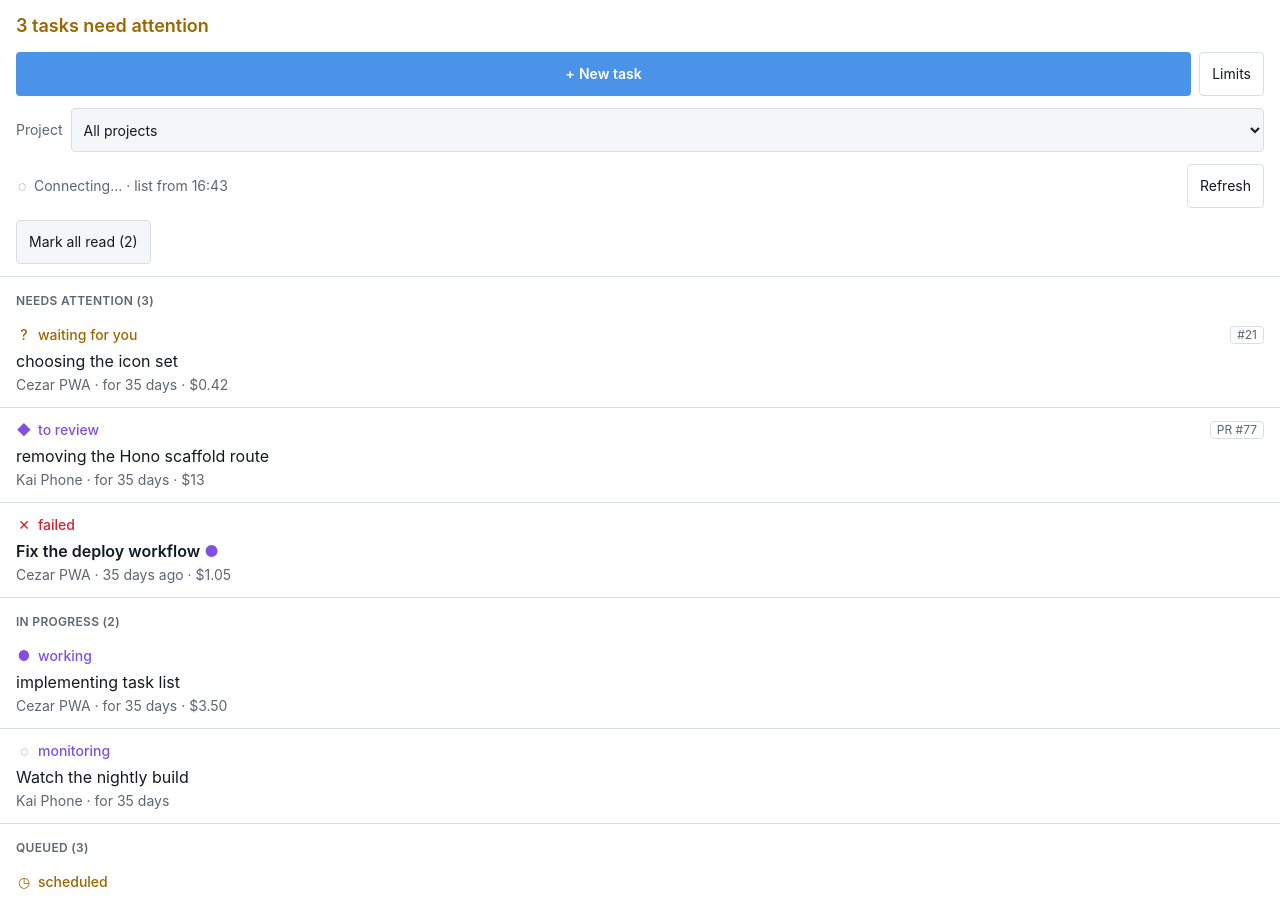
mark all read (#67) › shows the sweep in flight, then clears every marker on screen
The image size is (1280, 899).
Click the button "Mark all read (2)": click(83, 242) [16, 220, 151, 264]
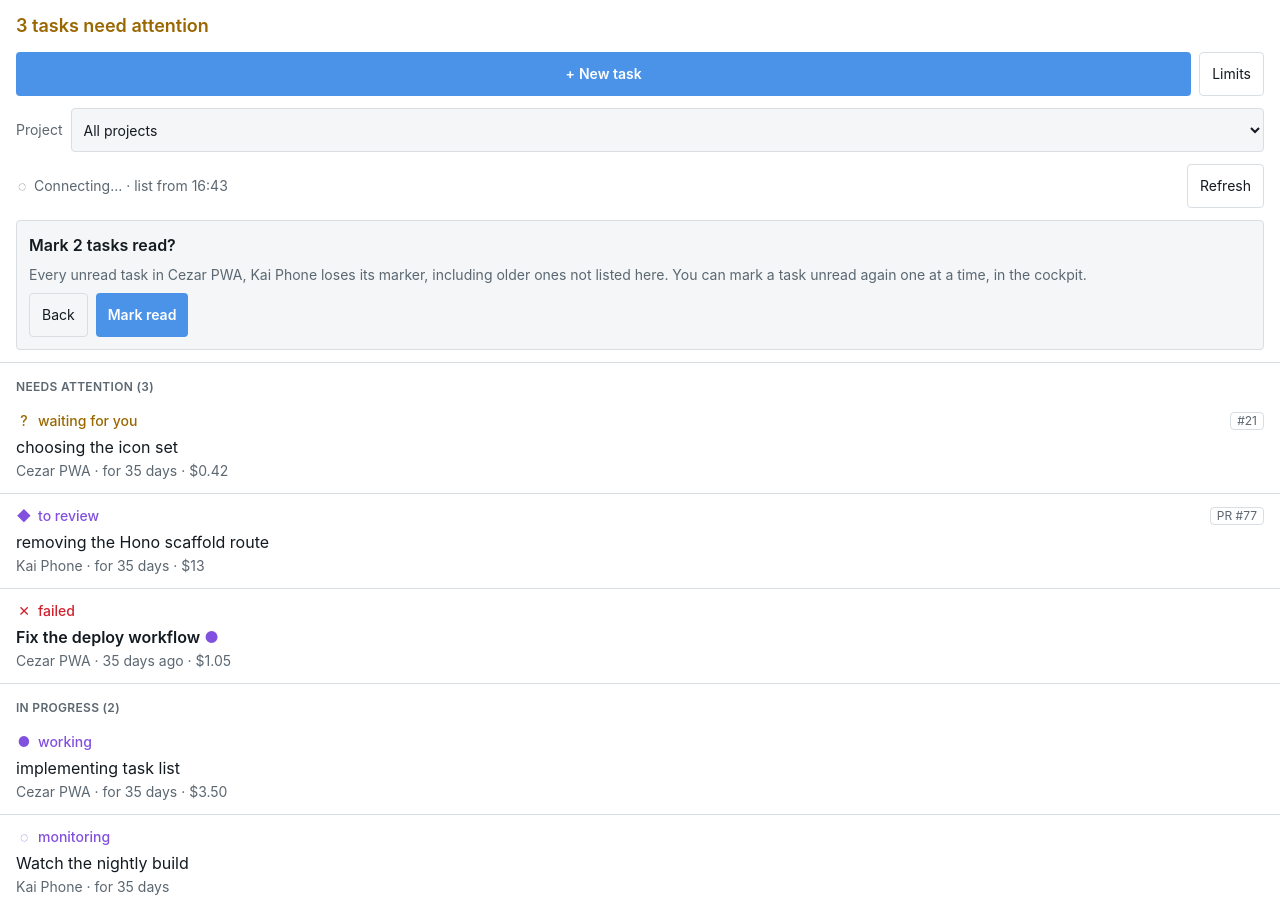
Click the button "Mark read": click(142, 315) [96, 293, 188, 337]
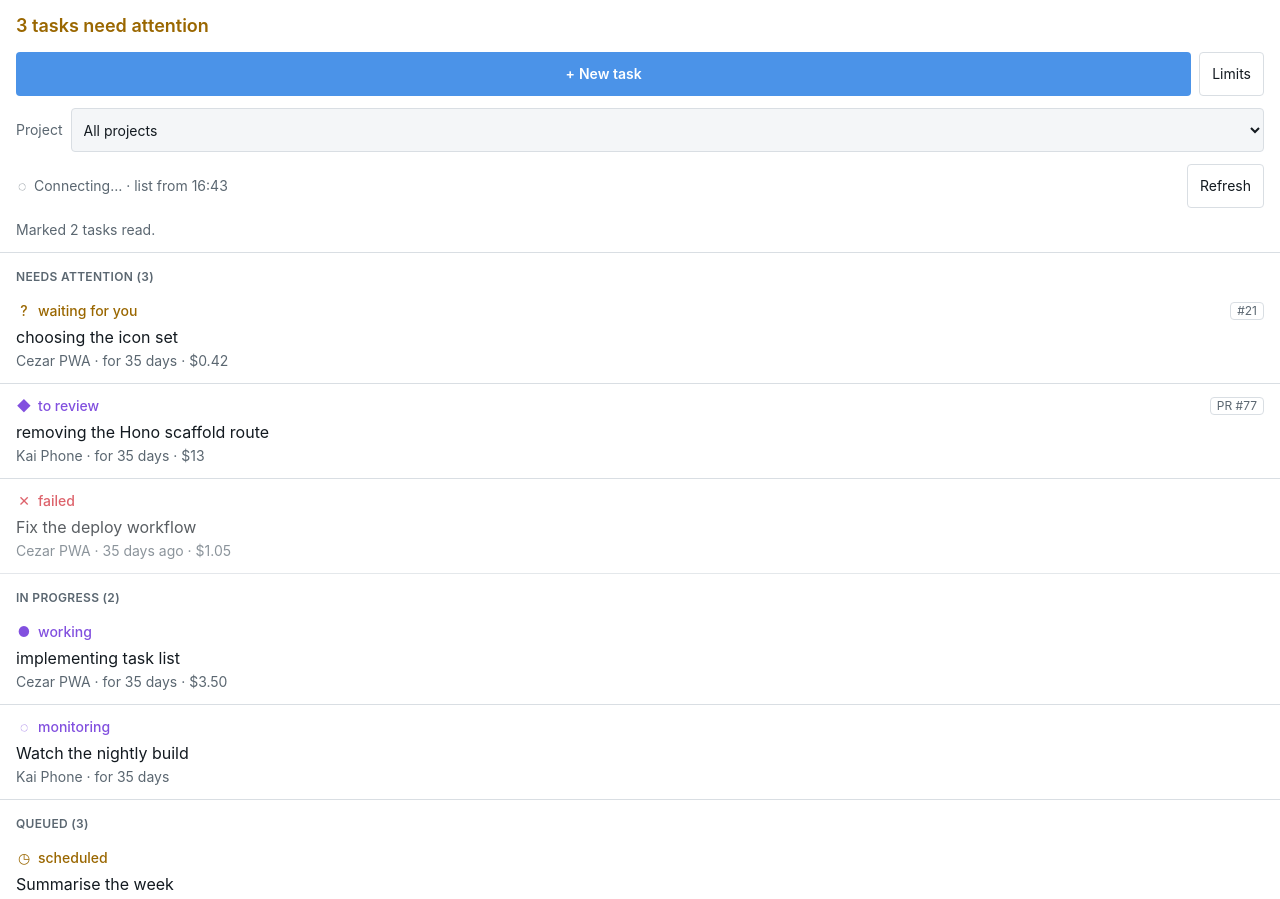
Expected: the button "Mark all read" is not shown
Now the dialog is gone
